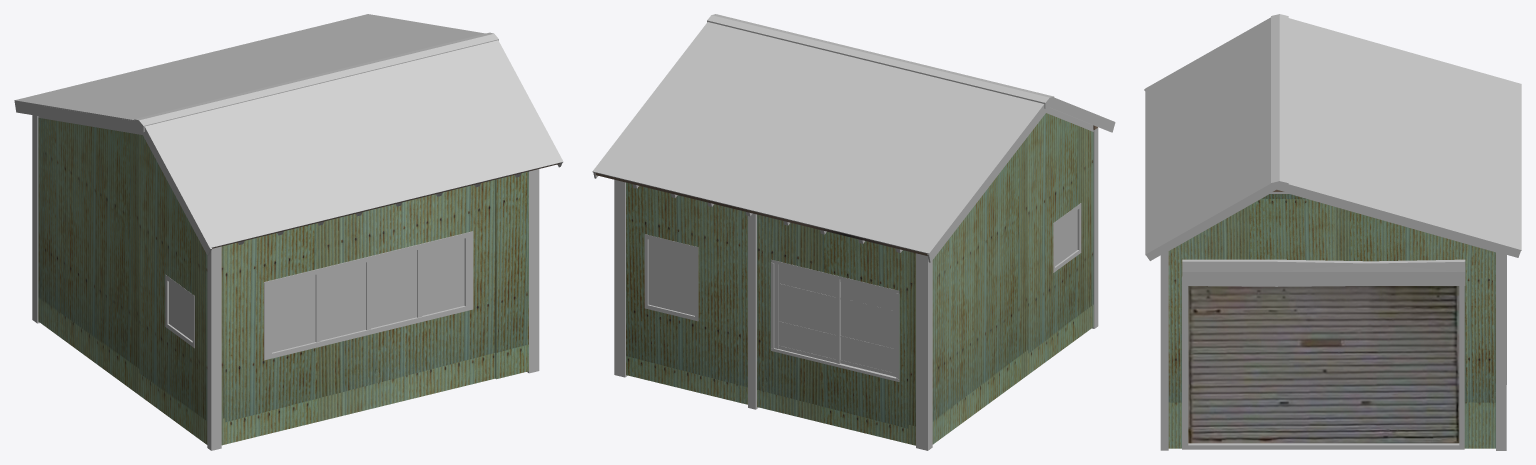
Rendered from JpHouse_Garage03a.fbx.
The picture shows the model from 3 angles, left to right: view 1: azimuth 30°, elevation 25°; view 2: azimuth 150°, elevation 25°; view 3: azimuth 270°, elevation 25°; orthographic projection. The views are drawn at different scales.
Parts seen in each view (by area): view 1: JpHouse_Garage03a; view 2: JpHouse_Garage03a; view 3: JpHouse_Garage03a.
Part boxes in pixels (<box>): JpHouse_Garage03a: <box>14,14,563,450</box>; JpHouse_Garage03a: <box>592,14,1115,450</box>; JpHouse_Garage03a: <box>1144,14,1521,450</box>.
Bounding box in the file's own units: 5.88 × 4.55 × 5.61.
